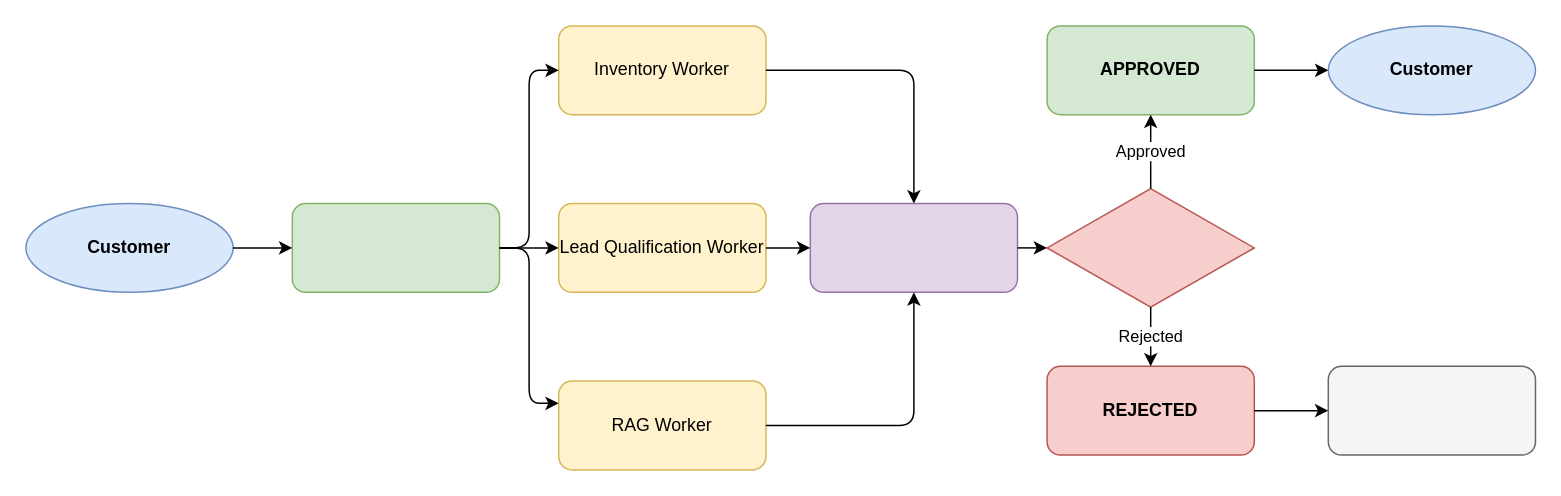
Some shapes in this 1561 by 496 pixel diagram are drawn without their labels. Here are the shapes that lost their labels. From the top down, the centre of each, then its label:
At (x=395, y=247): "Manager".
At (x=913, y=247): "QA Supervisor".
At (x=1150, y=247): "QA Result?".
At (x=1431, y=410): "Human Review".
